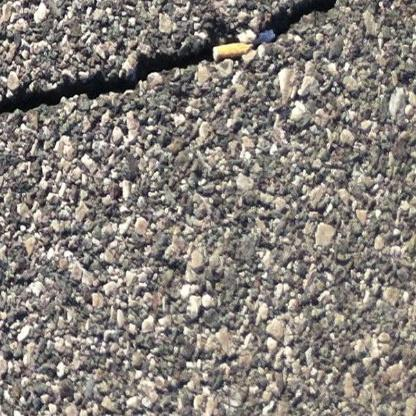Cracks: (0, 19, 245, 129), (260, 0, 373, 47)
